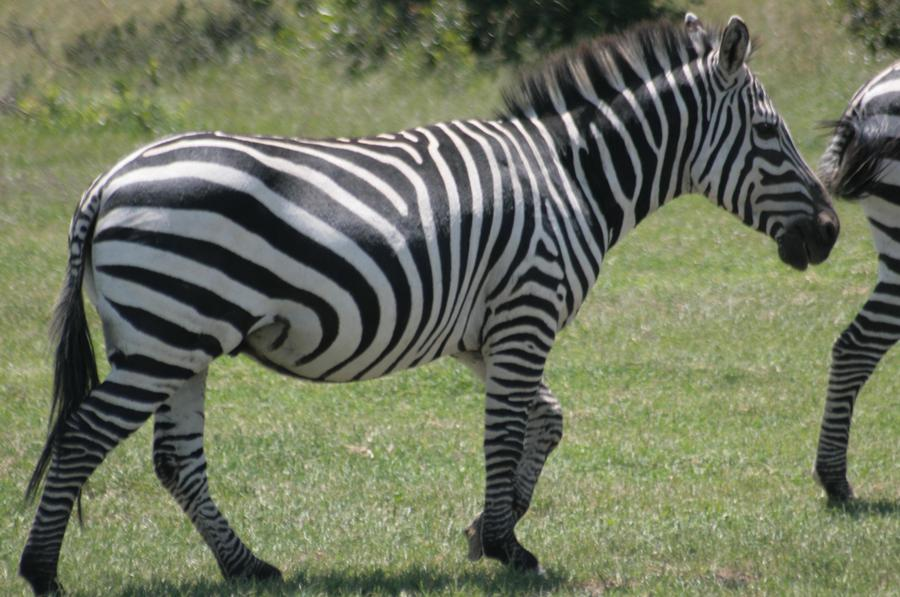zebra_plains: (104, 123, 575, 384)
